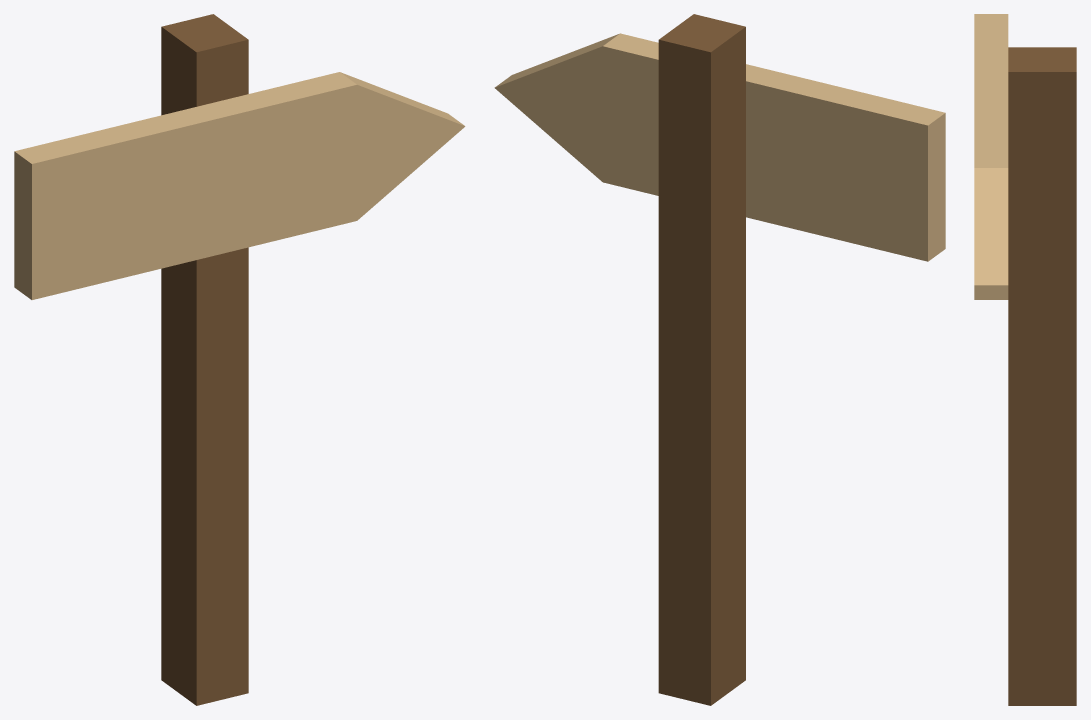
File: TW_SIGN_ARROW_A_LOD0.glb
3 renders of one model, left to right at view 1: azimuth 30°, elevation 25°; view 2: azimuth 150°, elevation 25°; view 3: azimuth 270°, elevation 25°, orthographic. The views are drawn at different scales.
Parts seen in each view (by area): view 1: TW_SIGN_ARROW_A_LOD0; view 2: TW_SIGN_ARROW_A_LOD0; view 3: TW_SIGN_ARROW_A_LOD0.
Part boxes in pixels (x1=…): TW_SIGN_ARROW_A_LOD0: x1=14, y1=14, x2=465, y2=705; TW_SIGN_ARROW_A_LOD0: x1=494, y1=14, x2=945, y2=705; TW_SIGN_ARROW_A_LOD0: x1=974, y1=14, x2=1076, y2=705.
Size of the model in its own units: 1 by 1.44 by 0.21.
1 material, 1 textured.
